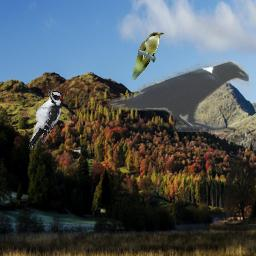Crow: (108, 60, 249, 132)
Cuckoo: (131, 32, 164, 80)
Woodpecker: (28, 89, 62, 150)
